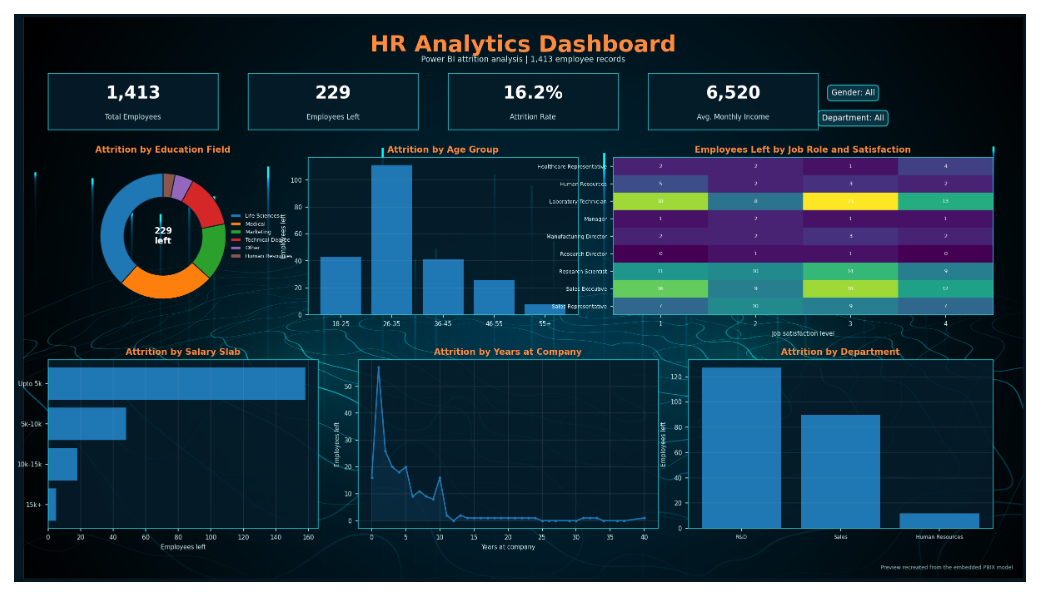

This screenshot's page, from the dashboard's own definition file:
{"tool":"powerbi","page":{"name":"Page 1","canvas":[1280,720],"ordinal":0},"visuals":[{"type":"cardVisual","title":"Total Employees","fields":{"Data":["HR_Analytics.Total Employees"]},"box":[24.5,106.7,178.7,93.7],"z":0},{"type":"cardVisual","title":"Attrition Rate","fields":{"Data":["HR_Analytics.Attrition Rate"]},"box":[214.8,106.7,187.4,93.7],"z":1000},{"type":"cardVisual","title":"Employees left","fields":{"Data":["HR_Analytics.Employees Left"]},"box":[425.2,108.1,200.4,93.7],"z":2000},{"type":"cardVisual","title":"Average Monthly Income","fields":{"Data":["HR_Analytics.Average Monthly Income"]},"box":[640,108.1,237.8,93.7],"z":3000},{"type":"slicer","title":"Average Monthly Income","fields":{"Values":["HR_Analytics.Gender"]},"box":[905,105,375,70],"z":4000},{"type":"textbox","box":[10.1,0,739.5,85],"z":5000},{"type":"slicer","title":"Average Monthly Income","fields":{"Values":["HR_Analytics.Department"]},"box":[759.6,2.9,501.6,82.2],"z":6000},{"type":"donutChart","title":"Attrition By Education","fields":{"Category":["HR_Analytics.Education Field"],"Y":["HR_Analytics.Employees Left"]},"box":[30,256.2,370,203.8],"z":7000},{"type":"clusteredColumnChart","title":"Attrition By Age group","fields":{"Category":["HR_Analytics.Age Group"],"Y":["HR_Analytics.Employees Left"]},"box":[436.2,258.8,460,201.2],"z":8000},{"type":"pivotTable","title":"Job satisfaction Levels","fields":{"Rows":["HR_Analytics.Job Role"],"Columns":["HR_Analytics.Job Satisfaction"],"Values":["HR_Analytics.Employees Left"]},"box":[921.2,186.2,340,291.2],"z":9000},{"type":"barChart","title":"Attrition By Salary","fields":{"Category":["HR_Analytics.Salary Slab"],"Y":["HR_Analytics.Employees Left"]},"box":[10,477.5,392.5,233.8],"z":10000},{"type":"lineChart","title":"Attrition by Experience","fields":{"Category":["HR_Analytics.Years At Company"],"Y":["HR_Analytics.Employees Left"]},"box":[425,481.2,368.8,226.2],"z":11000},{"type":"columnChart","title":"Attrition by Department","fields":{"Category":["HR_Analytics.Department"],"Y":["HR_Analytics.Employees Left"]},"box":[851.2,493.8,410,213.8],"z":12000}]}

Visuals, with their boxes in screenshot pixels (x1, y1, x2, y2), scaled from the page's 1280x720 canvas onto the 1053x598 screenshot:
"Total Employees" cardVisual: 20/89/167/166
"Attrition Rate" cardVisual: 177/89/331/166
"Employees left" cardVisual: 350/90/515/168
"Average Monthly Income" cardVisual: 526/90/722/168
"Average Monthly Income" slicer: 745/87/1052/145
textbox: 8/0/617/71
"Average Monthly Income" slicer: 625/2/1038/71
"Attrition By Education" donutChart: 25/213/329/382
"Attrition By Age group" clusteredColumnChart: 359/215/737/382
"Job satisfaction Levels" pivotTable: 758/155/1038/397
"Attrition By Salary" barChart: 8/397/331/591
"Attrition by Experience" lineChart: 350/400/653/588
"Attrition by Department" columnChart: 700/410/1038/588
